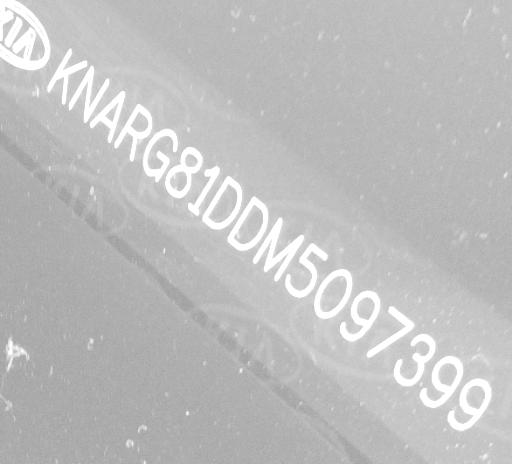letter: (253, 213, 305, 281), (444, 372, 498, 435), (365, 301, 417, 358), (112, 101, 158, 164), (418, 350, 466, 409), (392, 329, 438, 390), (334, 286, 382, 343), (67, 62, 113, 121), (200, 174, 246, 232), (311, 264, 355, 322), (46, 45, 88, 105), (86, 86, 130, 143), (225, 198, 269, 252), (284, 244, 328, 298), (140, 125, 180, 183), (187, 160, 225, 218), (164, 144, 204, 198)
